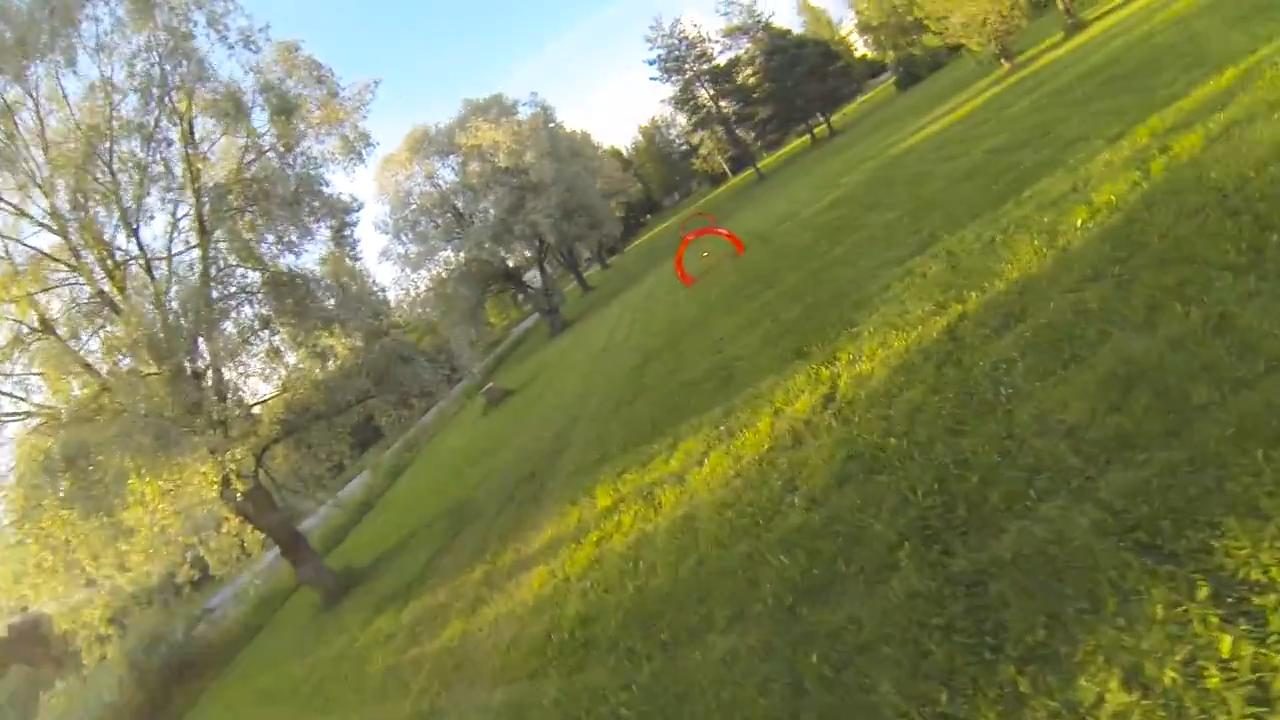gate: (673, 229, 748, 287)
